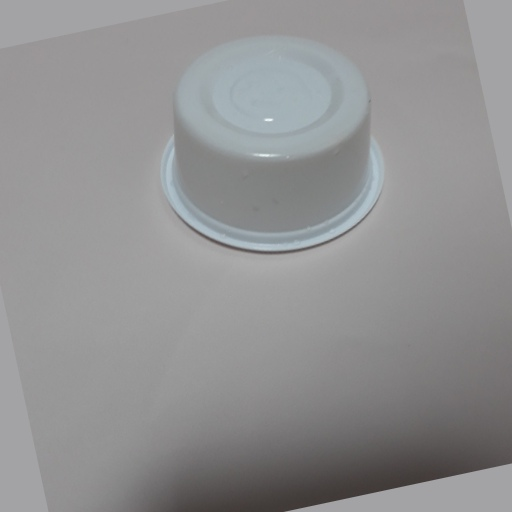Plastic_5: (153, 34, 388, 256)
